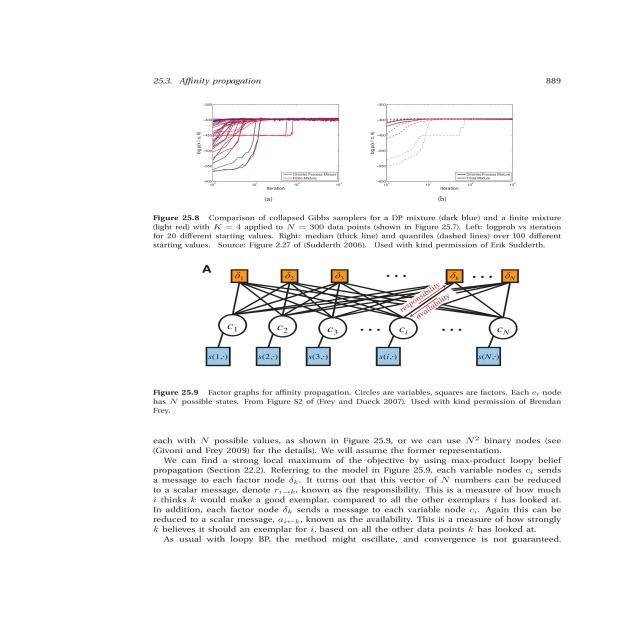diagram: (108, 106, 583, 420)
